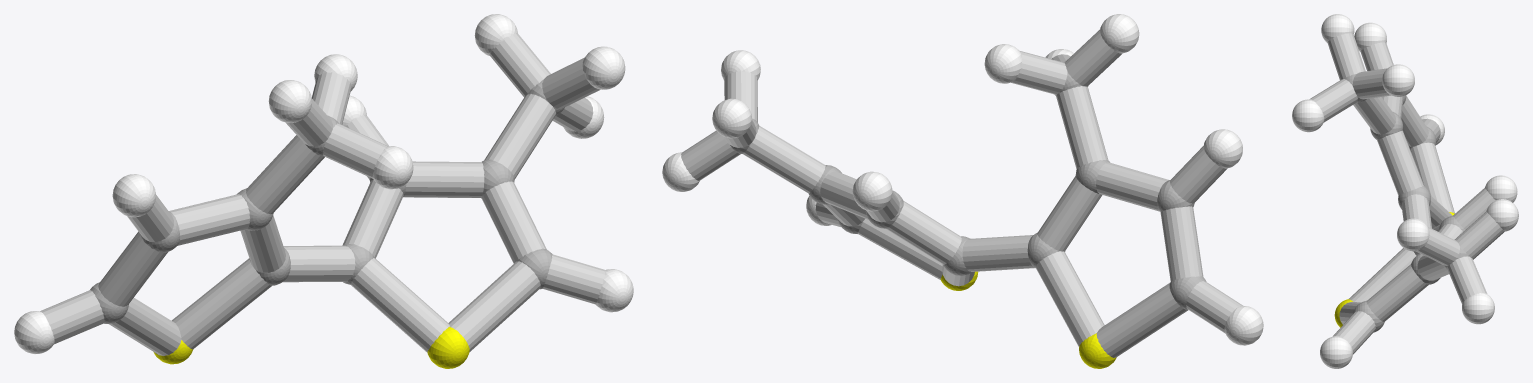
The model's file is Methylthiophene_Phi_25_Theta_110_Methylthiophene.glb.
3 views of the same model, side by side, from view 1: azimuth 30°, elevation 25°; view 2: azimuth 150°, elevation 25°; view 3: azimuth 270°, elevation 25° (orthographic). The views are drawn at different scales.
Visible parts, largest first — view 1: grp7965, grp3621, grp1, grp7241; view 2: grp7965, grp3621, grp1, grp7241; view 3: grp7965, grp3621, grp1.
Boxes of the visible parts, x1=… form: grp7965: x1=40, y1=33, x2=605, y2=355; grp3621: x1=14, y1=14, x2=633, y2=353; grp1: x1=90, y1=80, x2=564, y2=323; grp7241: x1=153, y1=326, x2=469, y2=368; grp7965: x1=681, y1=29, x2=1243, y2=357; grp3621: x1=662, y1=14, x2=1263, y2=345; grp1: x1=730, y1=62, x2=1206, y2=309; grp7241: x1=940, y1=271, x2=1116, y2=368; grp7965: x1=1309, y1=33, x2=1504, y2=354; grp3621: x1=1292, y1=14, x2=1518, y2=368; grp1: x1=1344, y1=74, x2=1468, y2=332.
Bounding box in the file's own units: 9.82 × 5.06 × 4.11.
